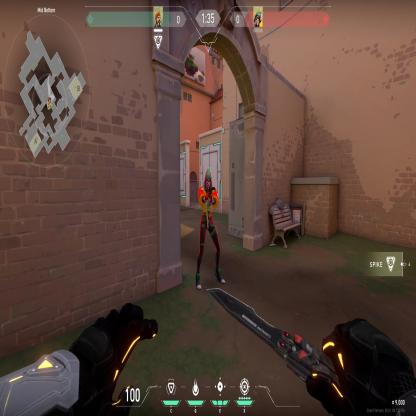enemy: (194, 165, 226, 291)
